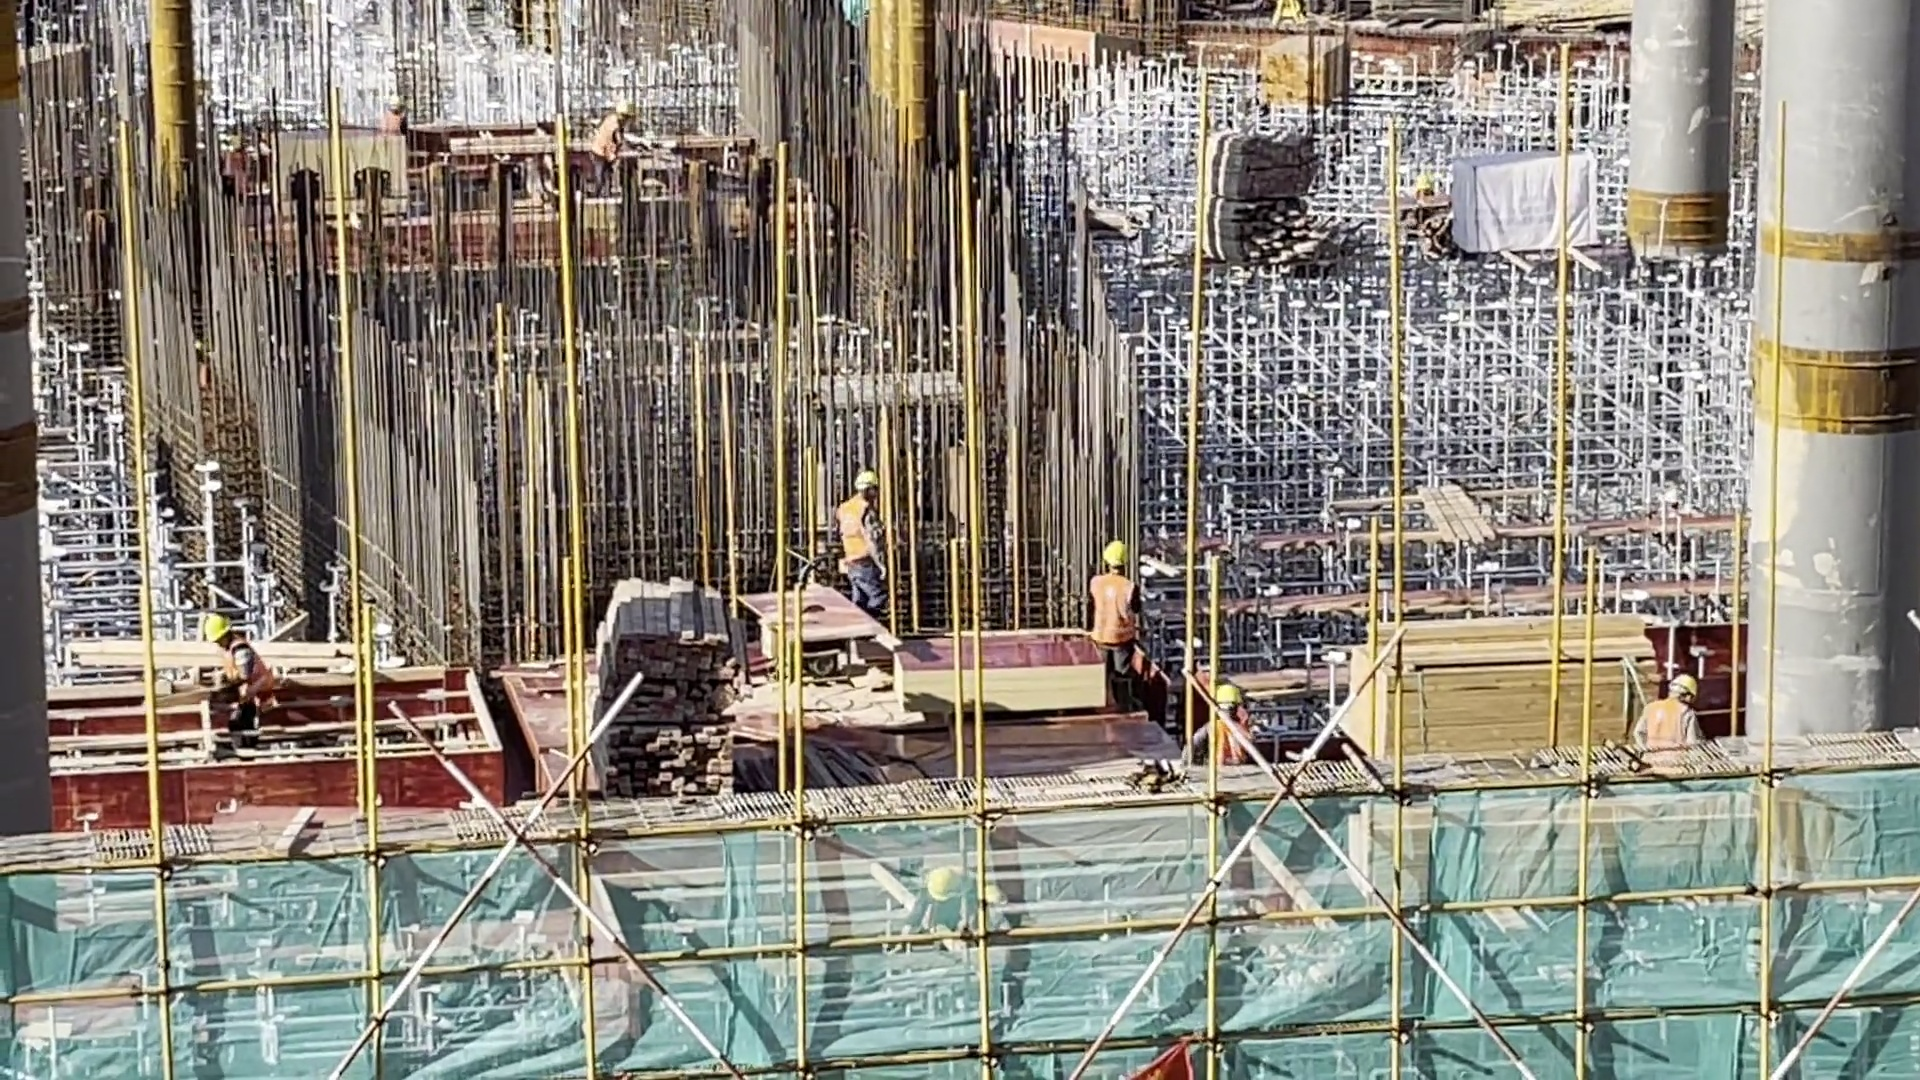board: (881, 630, 1111, 717)
ebox: (1267, 1, 1307, 27)
helmet: (204, 615, 232, 642), (1215, 685, 1244, 707), (1103, 543, 1127, 568), (851, 470, 875, 493), (1674, 676, 1697, 702)
person: (1087, 542, 1144, 718), (832, 467, 891, 621), (202, 615, 276, 733), (1635, 674, 1707, 746)
vest: (1088, 575, 1135, 644), (222, 640, 275, 699), (836, 498, 884, 563), (1644, 700, 1690, 742)
wood: (1338, 609, 1660, 749), (585, 569, 741, 805), (1260, 34, 1312, 113)
